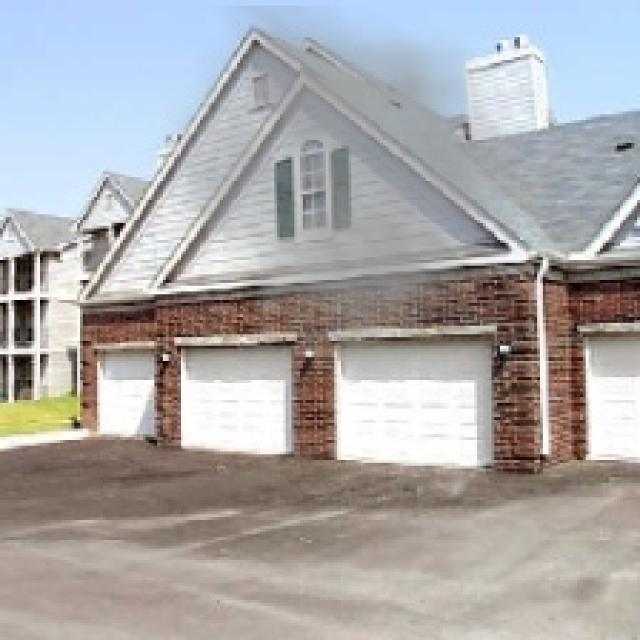smoke: (148, 6, 548, 400)
